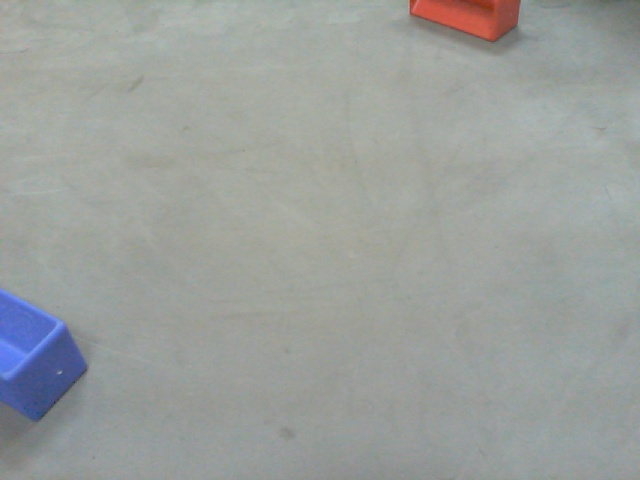BlueSample: (1, 288, 95, 428)
RedSample: (403, 1, 524, 45)
